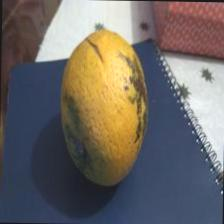Orange Rotten: (52, 16, 161, 200)
